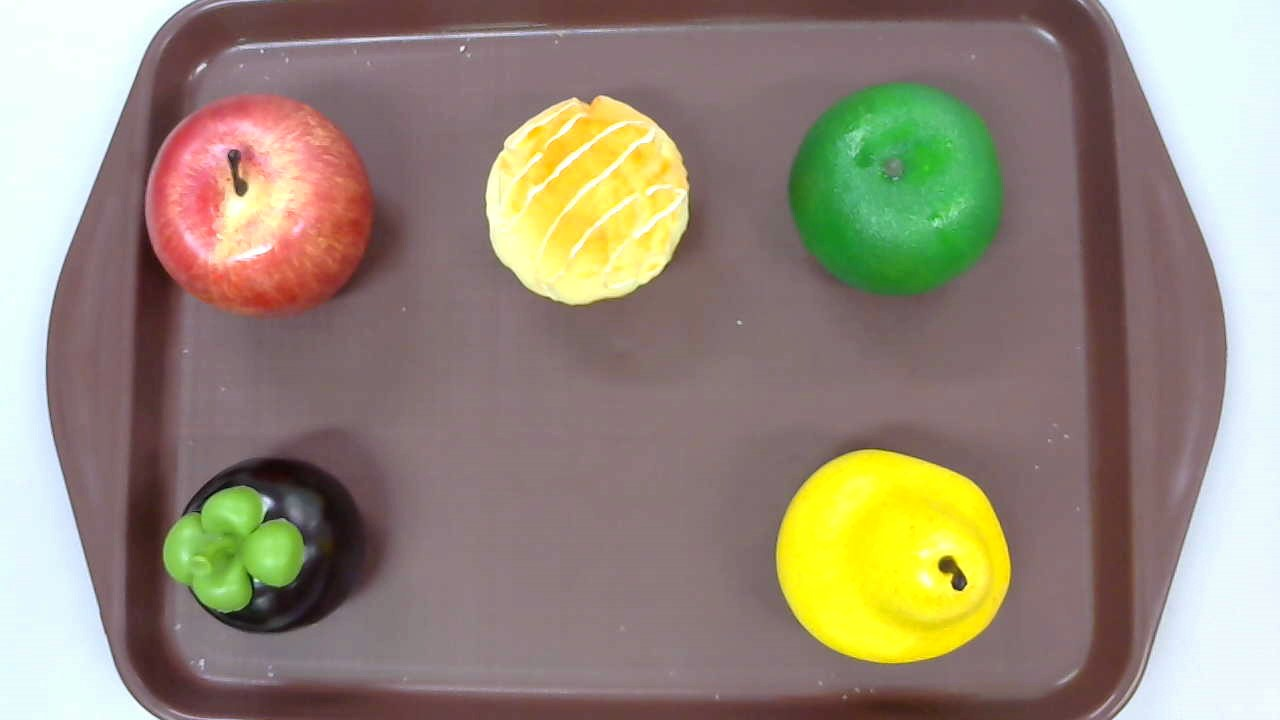cupcake: (486, 96, 691, 308)
green orange: (788, 83, 1002, 297)
mangosteen: (163, 458, 364, 635)
red apple: (145, 94, 374, 321)
yellow pear: (774, 449, 1010, 664)
